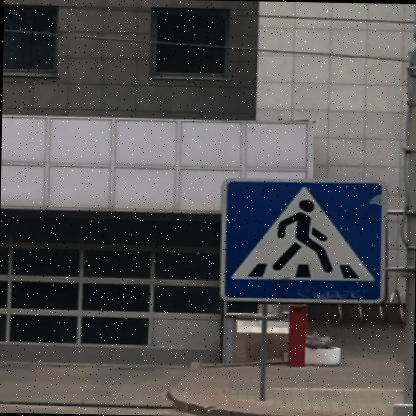crosswalk: (216, 176, 386, 304)
